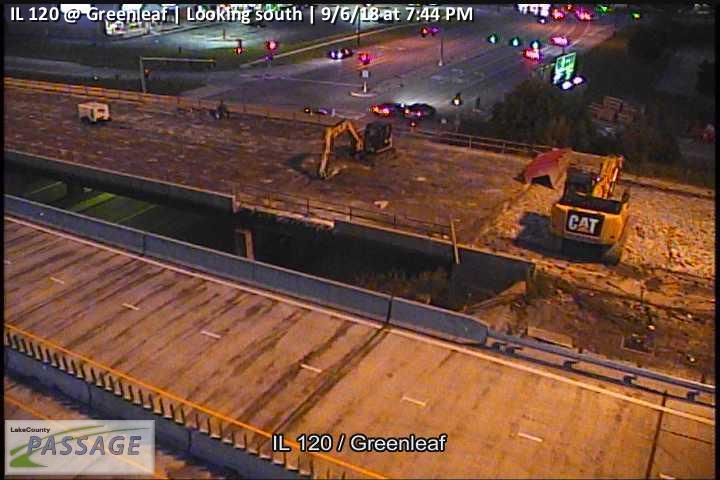SUV: (403, 103, 435, 119)
Sedan: (370, 102, 403, 116), (329, 46, 353, 59)
Truck: (550, 151, 635, 266), (317, 118, 392, 180), (77, 101, 109, 124)
